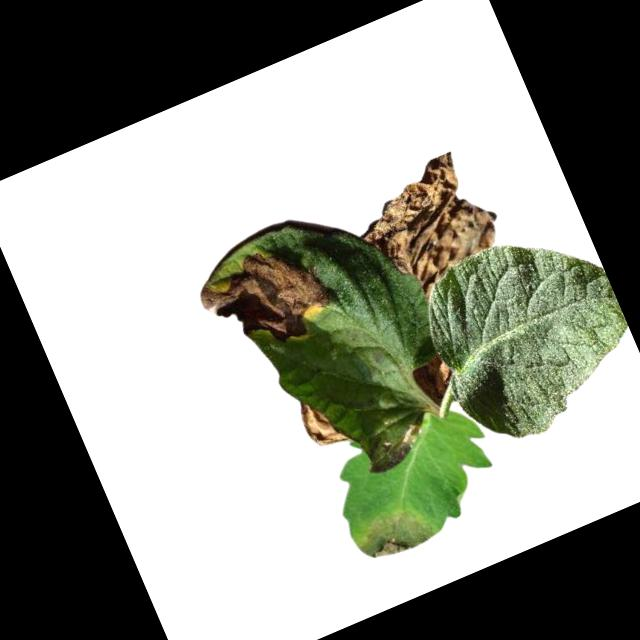Late_blight: (341, 143, 516, 315), (188, 228, 342, 371), (350, 496, 440, 571), (357, 415, 432, 477), (294, 390, 348, 454), (408, 349, 462, 407)
healthy: (406, 208, 640, 458)
